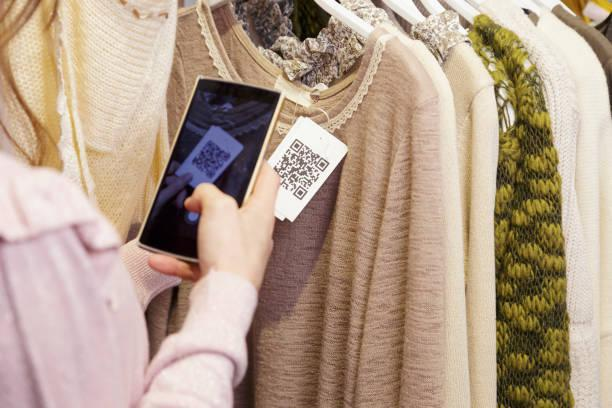Finder pattern: (292, 184, 311, 202), (287, 137, 305, 153), (314, 156, 332, 172), (221, 150, 234, 163), (205, 167, 217, 180), (205, 139, 217, 150)
